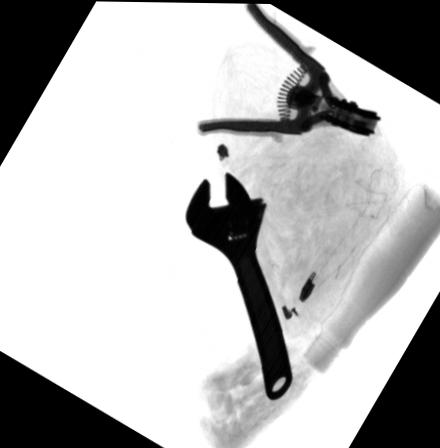Pliers: (194, 3, 383, 144)
Wrench: (182, 169, 292, 399)
